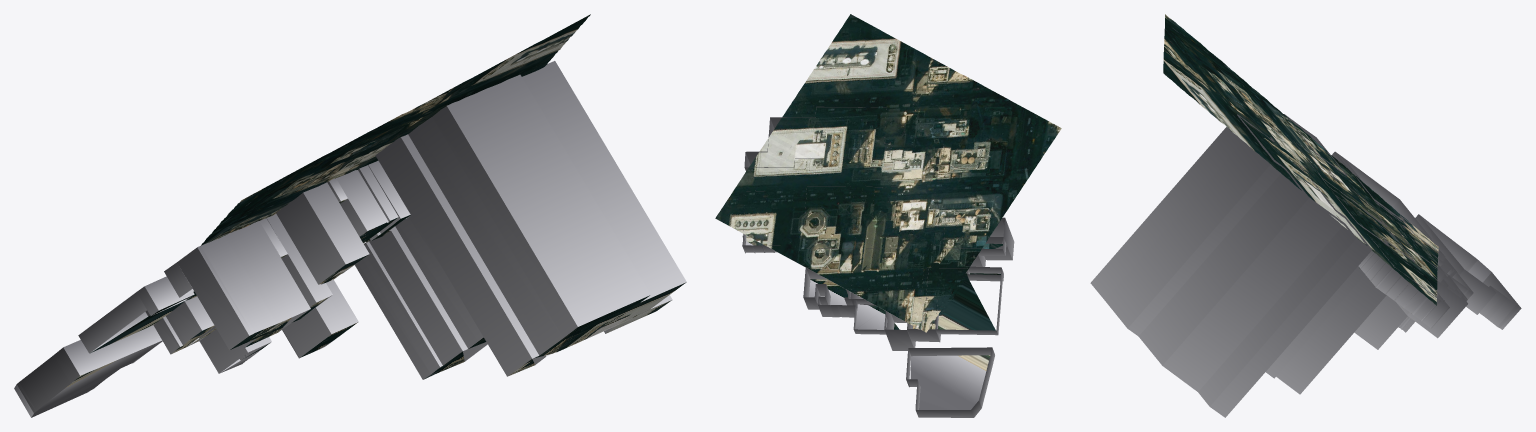
3 views of the same model, side by side, from view 1: azimuth 30°, elevation 25°; view 2: azimuth 150°, elevation 25°; view 3: azimuth 270°, elevation 25° (orthographic). The views are drawn at different scales.
Bounding box in the file's own units: 321 × 273 × 276.
Materials: 1 (1 with a texture image).
